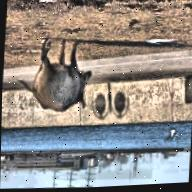boar: (11, 41, 95, 116)
